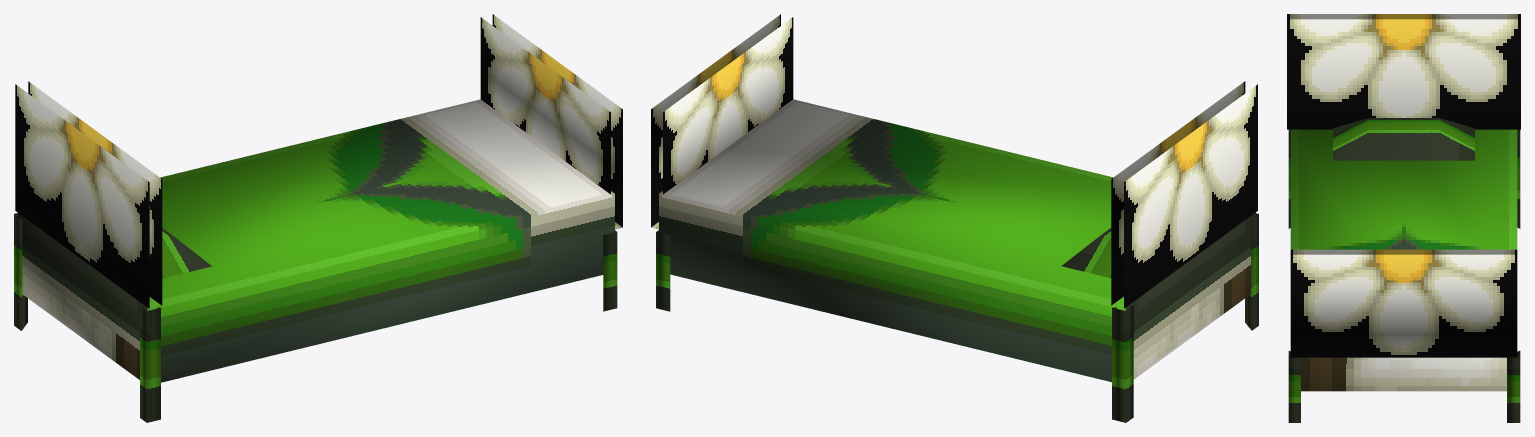
The picture shows the model from 3 angles, left to right: view 1: azimuth 30°, elevation 25°; view 2: azimuth 150°, elevation 25°; view 3: azimuth 270°, elevation 25°; orthographic projection. The views are drawn at different scales.
Parts seen in each view (by area): view 1: 3189IMFY07_01; view 2: 3189IMFY07_01; view 3: 3189IMFY07_01.
Boxes of the visible parts, x1,y1,x2,y2 form: 3189IMFY07_01: (14, 14, 622, 422); 3189IMFY07_01: (651, 14, 1258, 422); 3189IMFY07_01: (1287, 14, 1520, 422).
Size of the model in its own units: 1.93 by 0.9294 by 0.9387.
3 materials, 3 textured.
